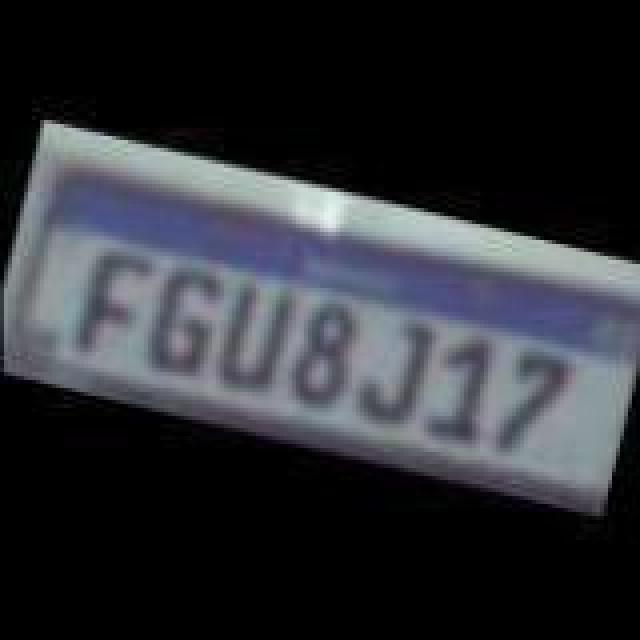1: (406, 324, 502, 456)
7: (486, 334, 574, 458)
8: (276, 286, 368, 414)
F: (62, 240, 158, 368)
G: (138, 256, 226, 380)
J: (348, 304, 440, 428)
U: (200, 266, 300, 402)
